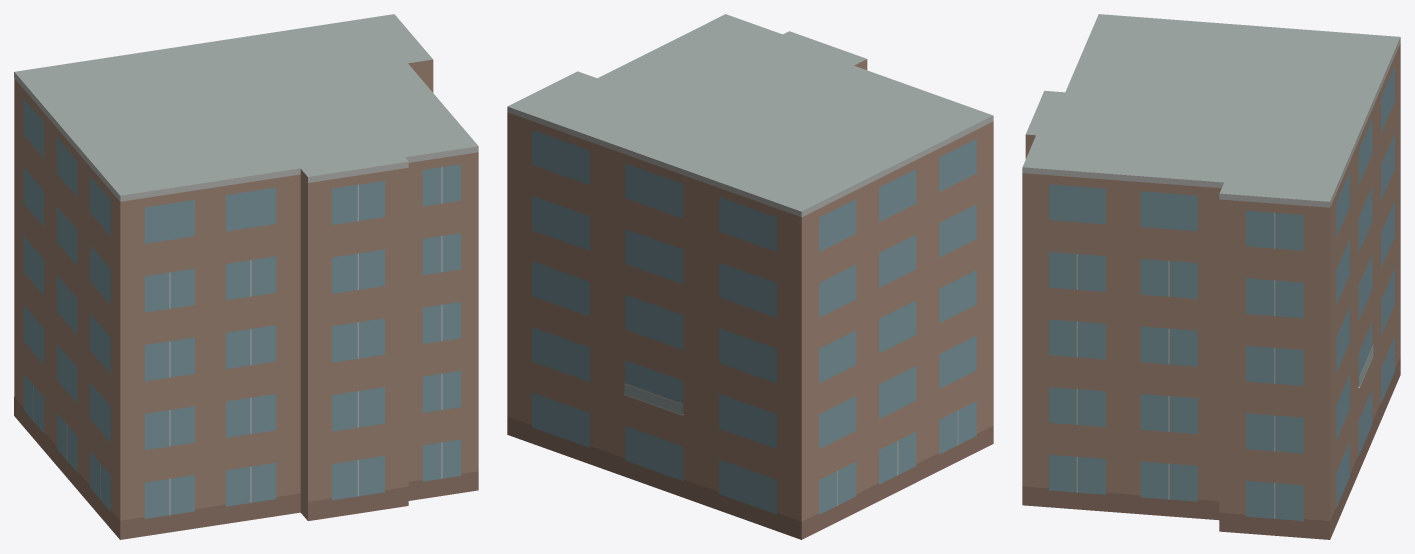
The model's file is survey-upis-32965229.glb.
3 renders of one model, left to right at view 1: azimuth 30°, elevation 25°; view 2: azimuth 150°, elevation 25°; view 3: azimuth 270°, elevation 25°, orthographic. The views are drawn at different scales.
Parts seen in each view (by area): view 1: survey-upis-32965229.tmp; view 2: survey-upis-32965229.tmp; view 3: survey-upis-32965229.tmp.
Part boxes in pixels (x1=…): survey-upis-32965229.tmp: x1=14, y1=14, x2=478, y2=539; survey-upis-32965229.tmp: x1=507, y1=14, x2=993, y2=539; survey-upis-32965229.tmp: x1=1022, y1=14, x2=1400, y2=539.
Bounding box in the file's own units: 16.76 × 14.05 × 14.26.
